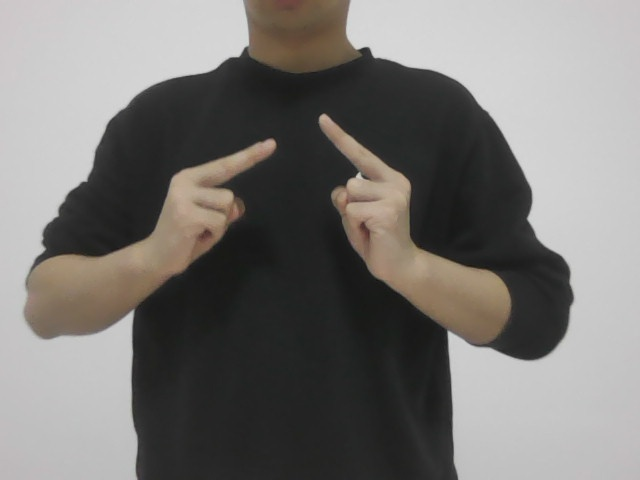know: (144, 112, 412, 294)
